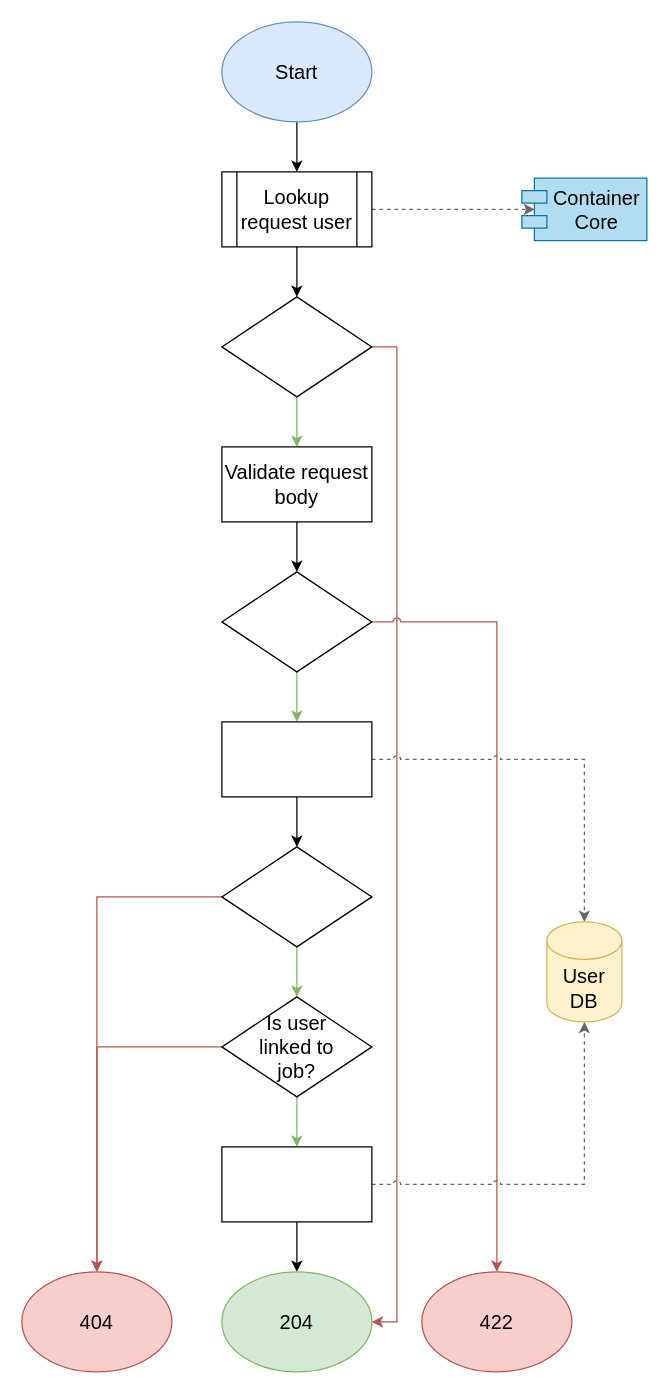
Some shapes in this 669 by 1394 pixel diagram are drawn without their labels. Here are the shapes that lost their labels. From the top down, the centre of each, then its label:
At point 296,346: "Does request contain data?".
At point 296,621: "Is request valid?".
At point 296,759: "Lookup target job in User DB".
At point 296,896: "Does job exist?".
At point 296,1184: "Update user metadata in User DB".
